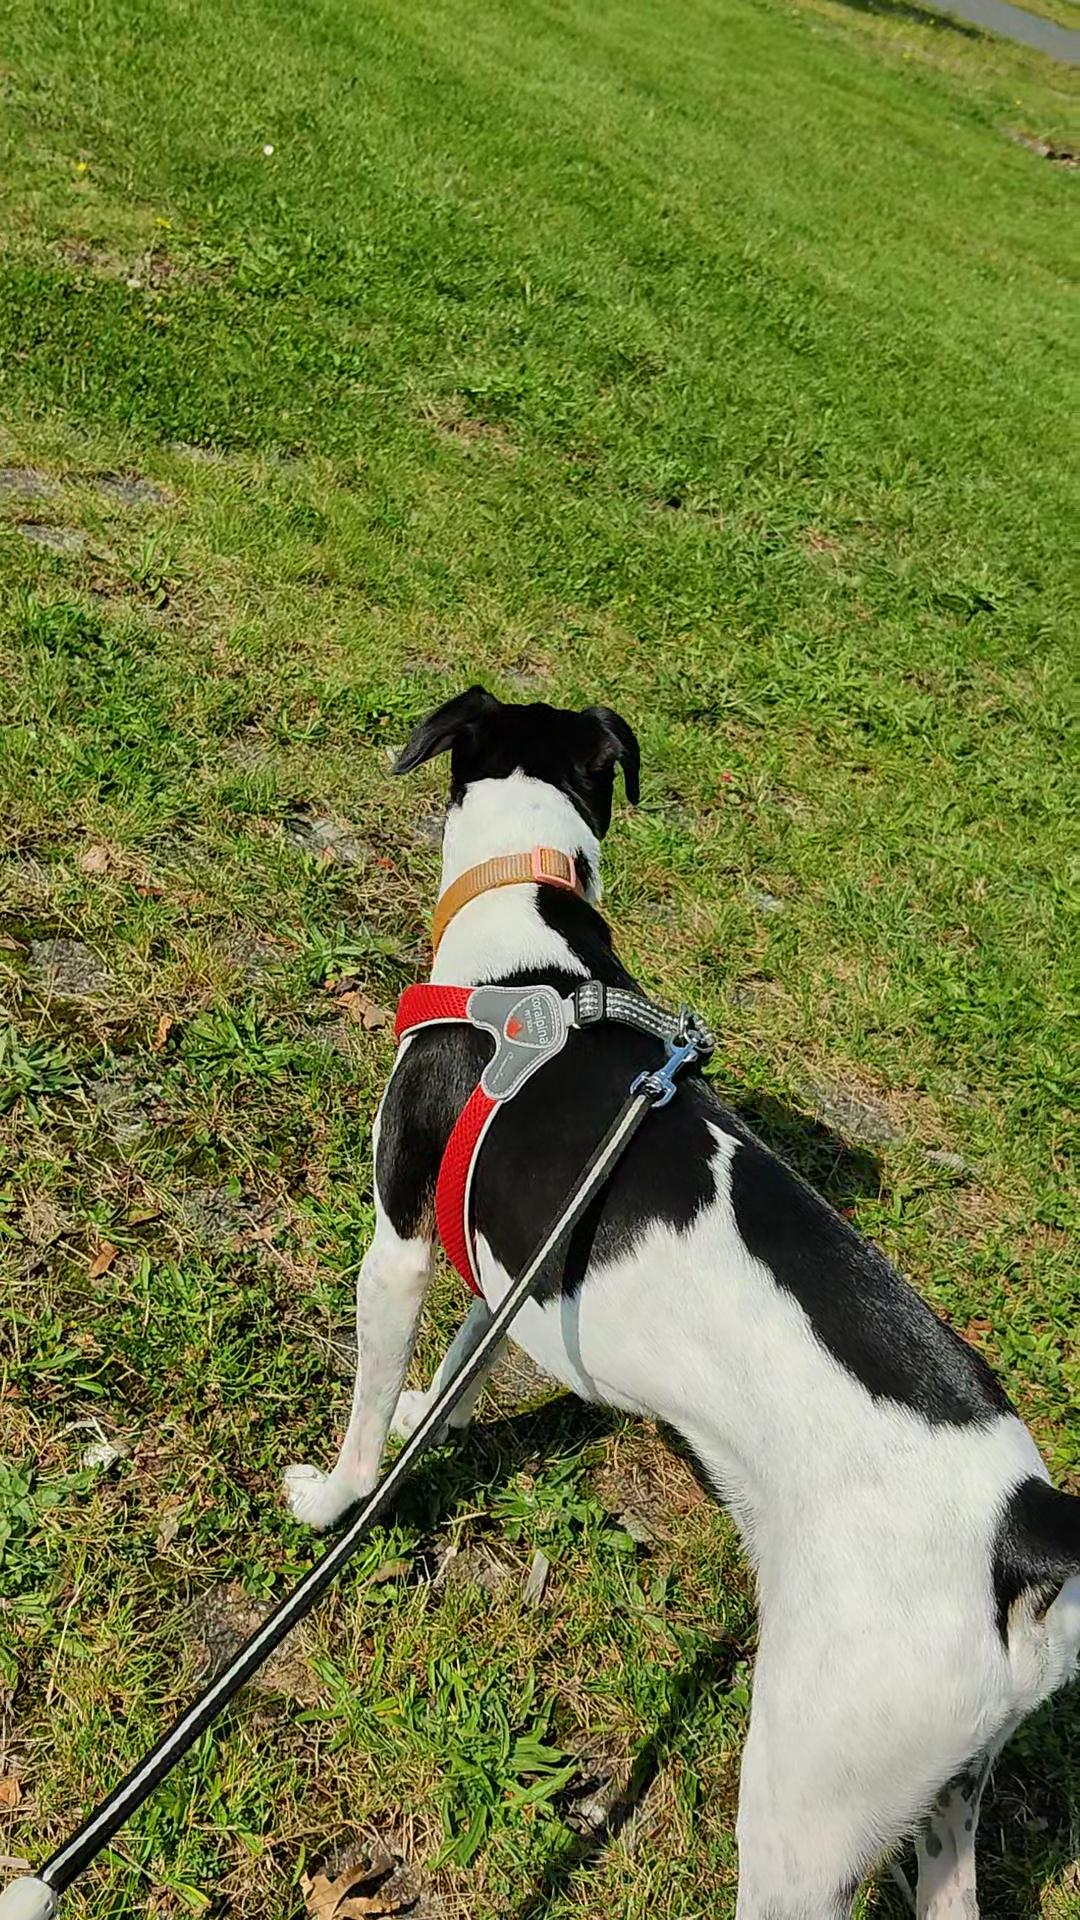Dog: (266, 669, 1079, 1919)
